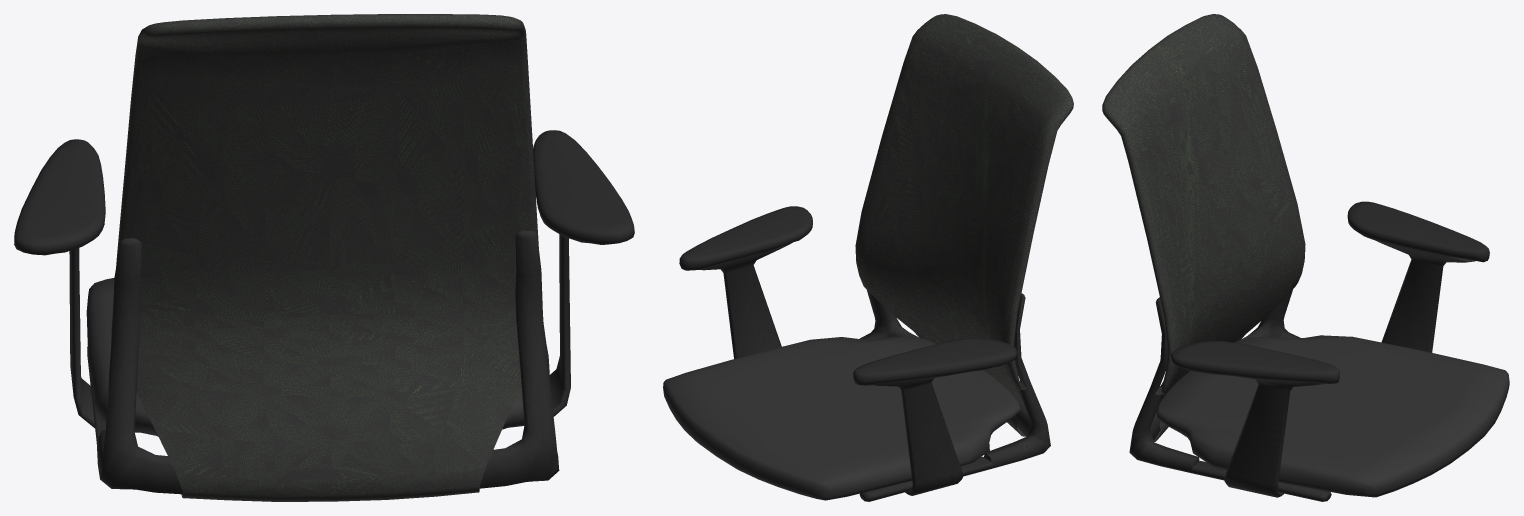
The model's file is CadeiraDeComputador.dae.
3 renders of one model, left to right at view 1: azimuth 30°, elevation 25°; view 2: azimuth 150°, elevation 25°; view 3: azimuth 270°, elevation 25°, orthographic. The views are drawn at different scales.
Visible parts, largest first — view 1: instance_0 (×7); view 2: instance_0 (×7); view 3: instance_0 (×7).
Part boxes in pixels (left/top/right/bottom): instance_0 (×7): left=14, top=14, right=634, bottom=501; instance_0 (×7): left=663, top=14, right=1073, bottom=501; instance_0 (×7): left=1102, top=14, right=1509, bottom=501.
Size of the model in its own units: 26.97 by 26.78 by 25.23.
Materials: 4 (1 with a texture image).
